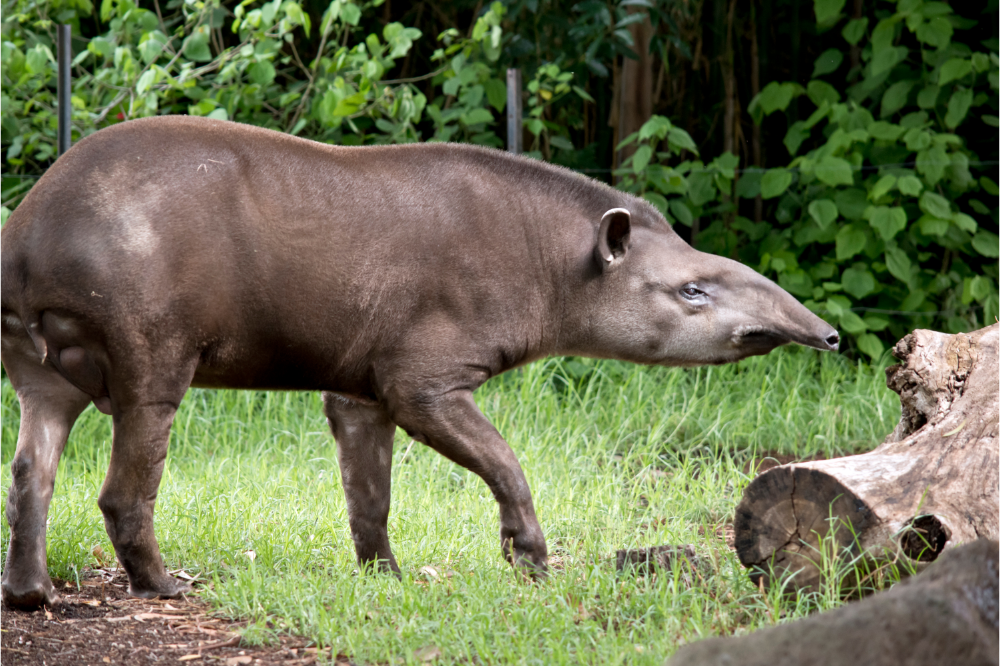Anta: (12, 57, 848, 614)
